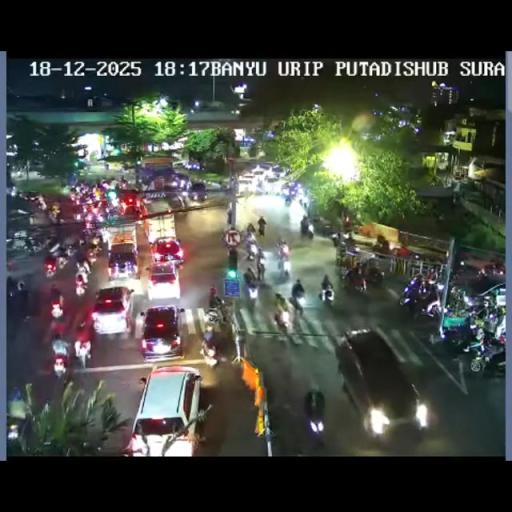Car: (335, 330, 427, 439), (128, 364, 203, 454), (138, 304, 184, 360), (92, 286, 134, 334), (146, 262, 182, 302), (106, 242, 140, 280), (150, 236, 186, 266), (118, 190, 144, 215), (169, 172, 191, 191), (187, 182, 207, 202), (264, 173, 282, 192), (237, 175, 254, 194), (250, 167, 266, 183)
Motorcycle: (226, 216, 294, 296), (42, 220, 100, 290), (399, 276, 441, 318), (466, 334, 505, 372), (437, 311, 476, 348), (6, 278, 30, 324), (304, 402, 326, 448), (465, 298, 501, 324), (204, 294, 230, 326), (446, 286, 472, 315), (343, 266, 368, 293), (74, 334, 91, 369), (477, 259, 505, 279), (201, 341, 219, 368), (318, 274, 334, 304), (274, 306, 291, 334), (291, 280, 306, 310), (52, 350, 68, 378), (50, 285, 64, 317), (365, 266, 384, 288), (243, 277, 259, 300), (276, 250, 290, 276), (244, 238, 258, 262), (74, 272, 88, 296), (44, 254, 58, 278), (343, 235, 358, 256), (334, 246, 349, 266), (86, 242, 100, 262), (321, 220, 336, 238), (256, 255, 266, 282), (47, 205, 61, 224), (300, 222, 314, 240), (84, 210, 98, 228), (105, 202, 119, 220), (424, 267, 438, 284), (64, 242, 78, 258), (48, 239, 62, 255), (100, 226, 111, 246), (330, 230, 342, 248), (24, 236, 36, 254), (221, 228, 231, 248), (342, 216, 352, 233), (176, 192, 186, 208), (255, 180, 265, 195), (36, 196, 46, 210), (124, 288, 134, 302), (6, 185, 17, 197), (258, 221, 266, 235), (453, 190, 461, 204), (246, 223, 256, 233), (284, 194, 292, 206), (298, 198, 306, 210), (226, 209, 232, 225), (69, 192, 77, 203), (119, 178, 127, 188), (104, 162, 109, 170)
